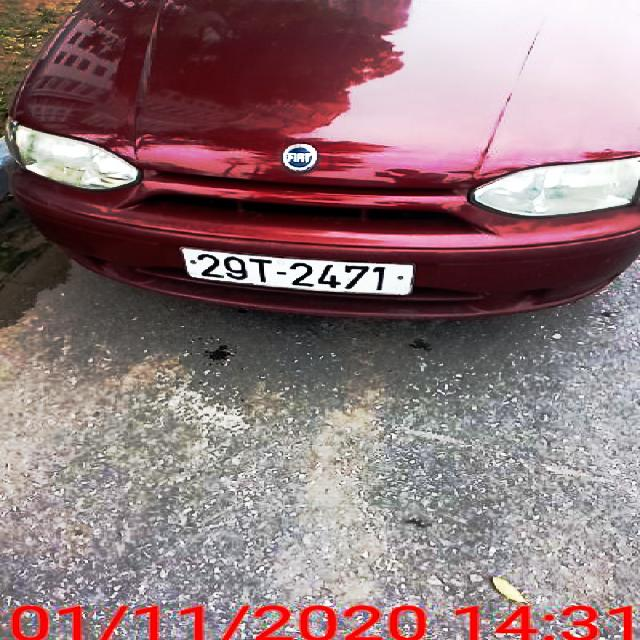license_plate: (181, 249, 417, 296)
